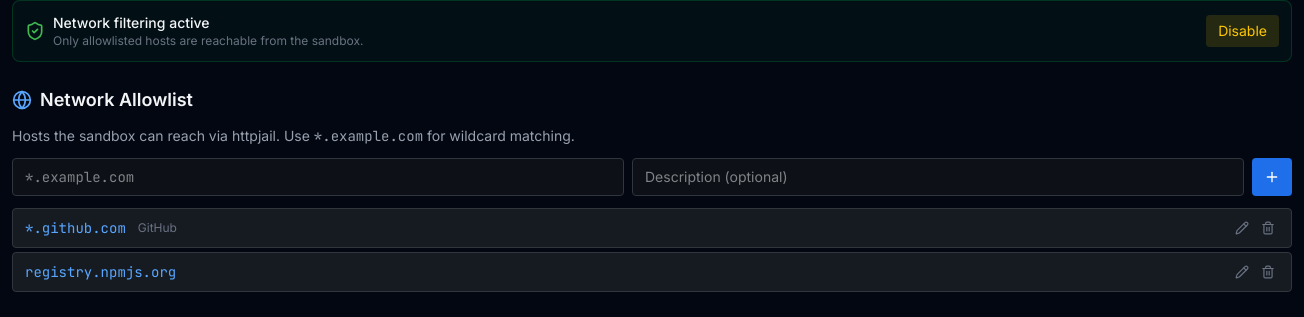
Allowlist › cancels edit mode without saving
Expected: the text "*.github.com" is shown, [25,218,126,238]
Step 1. Click the button named "Edit" in the row of "*.github.com" → (1242,228), box [1231,217,1253,239]
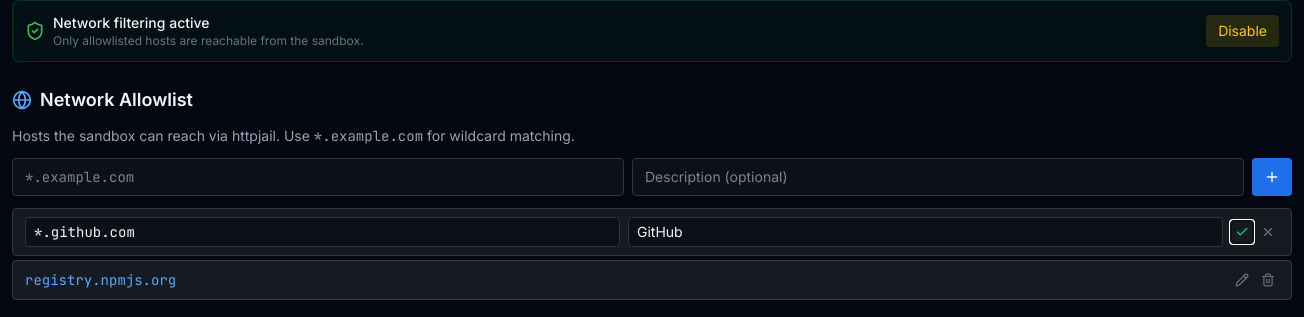
Step 2. Click the button named "Cancel" → (1268,232), box [1257,221,1279,243]
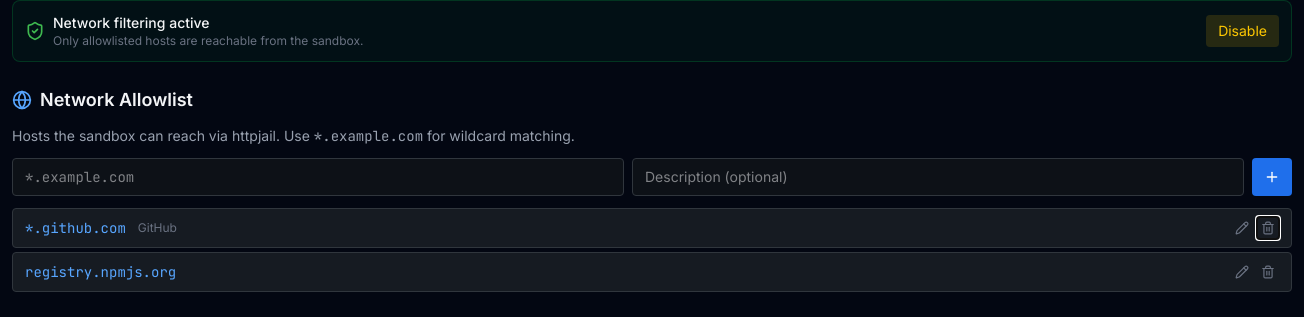
Now the text "*.github.com" is shown, box [25,218,126,238]
